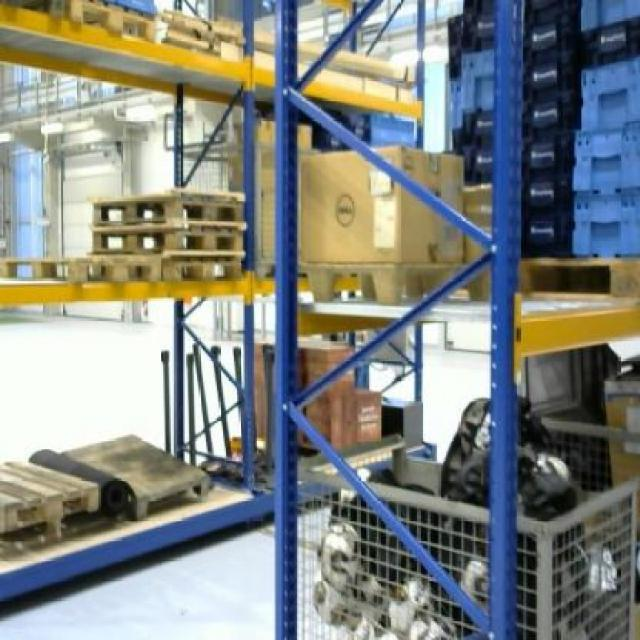box: (298, 142, 466, 262)
